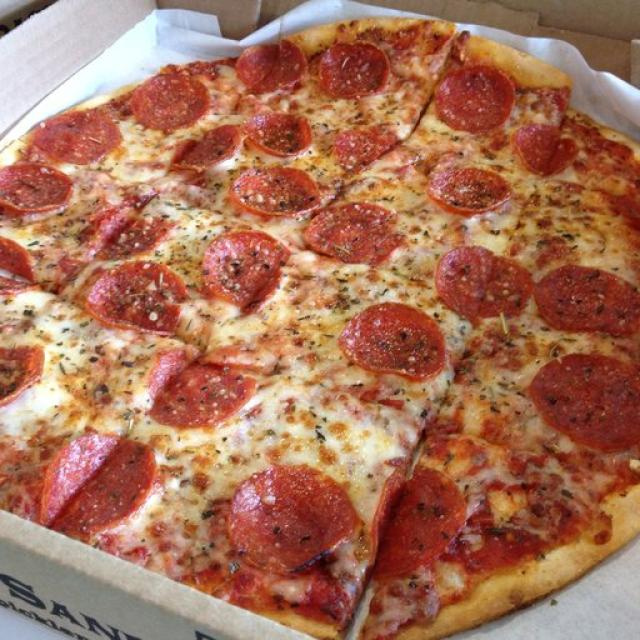Pepperoni: (44, 436, 152, 539), (232, 472, 351, 550), (543, 354, 640, 446), (386, 476, 462, 580), (438, 248, 525, 320), (96, 271, 190, 334), (154, 362, 243, 426), (539, 272, 640, 328), (197, 238, 286, 299), (357, 308, 439, 371), (436, 67, 514, 128), (317, 208, 411, 258), (34, 114, 121, 166), (0, 168, 79, 220), (75, 219, 172, 259), (318, 42, 384, 100), (124, 70, 191, 125), (230, 173, 318, 210), (242, 43, 304, 94), (172, 128, 238, 174), (438, 168, 500, 214), (0, 336, 49, 394), (249, 107, 304, 155), (514, 128, 571, 173), (335, 128, 395, 167), (0, 242, 41, 284)
Pizza: (0, 16, 640, 640)
